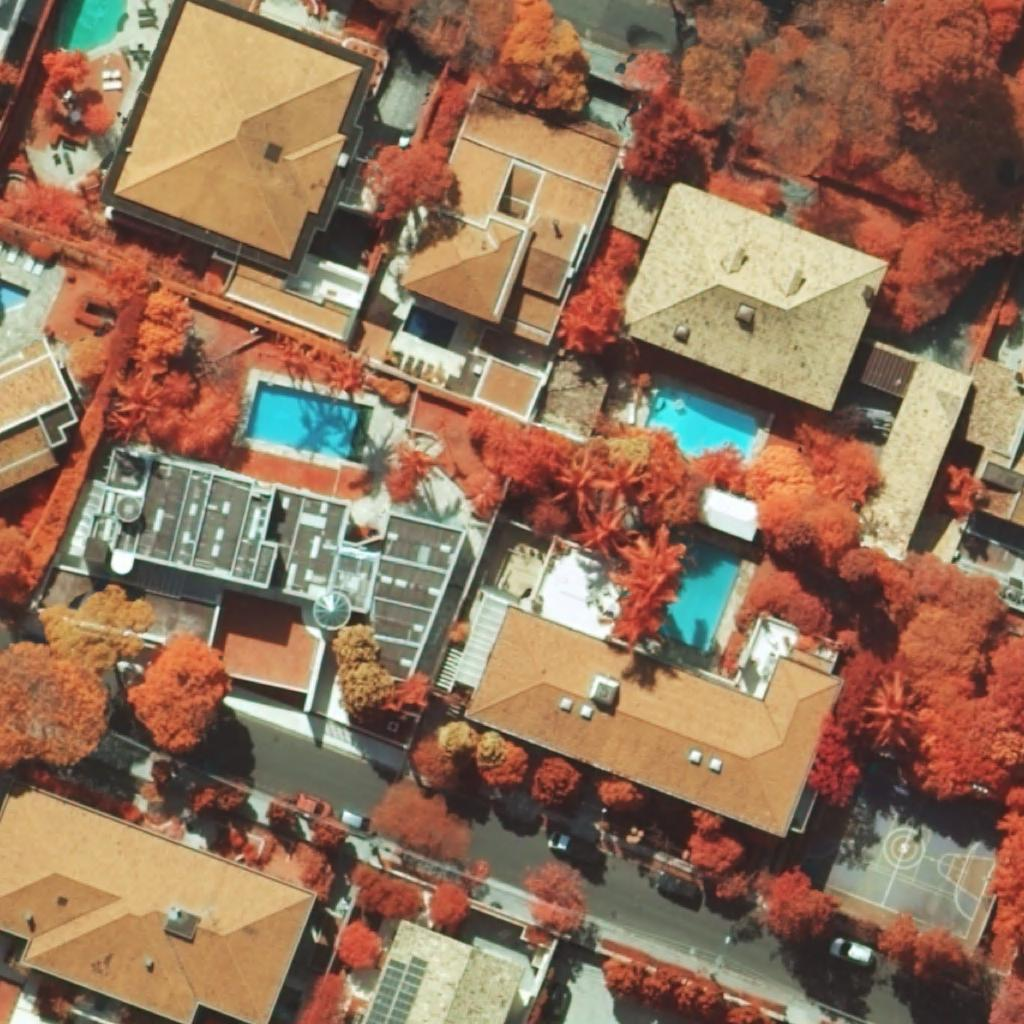pool: (243, 380, 361, 461), (657, 538, 740, 652), (645, 384, 758, 458), (56, 0, 128, 52), (402, 304, 457, 350), (0, 278, 30, 313)
